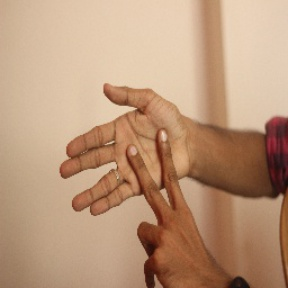N: (54, 80, 203, 262)
